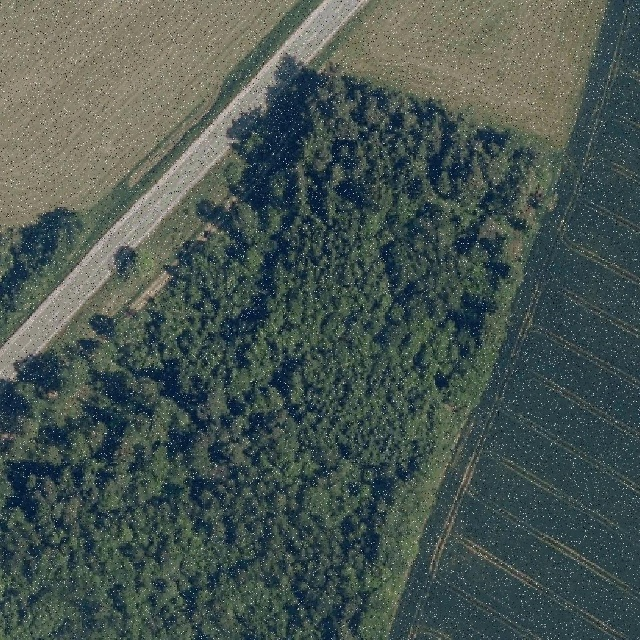vegetation: (0, 65, 554, 640), (0, 206, 90, 343)
